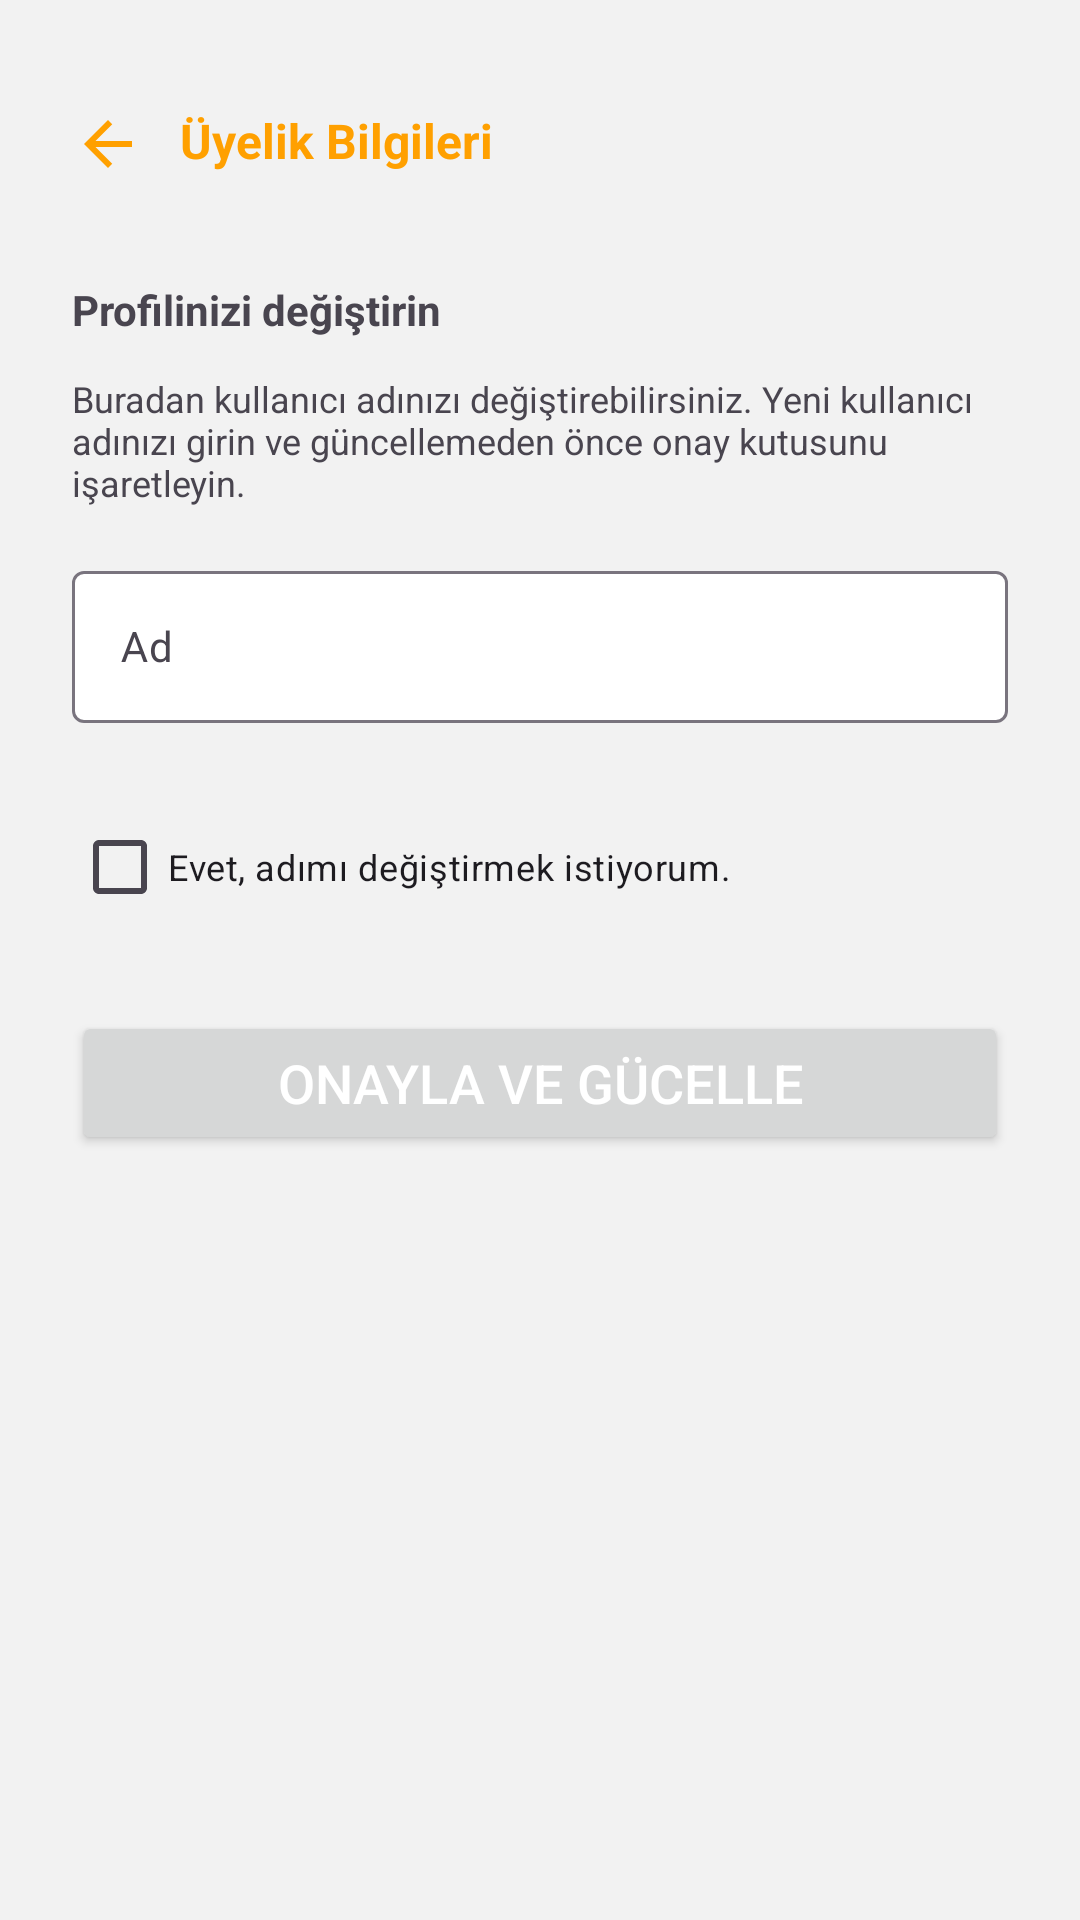

Icon click points for this 1080 × 1920 phone screenshot, format (x,y):
back: (108,144)
